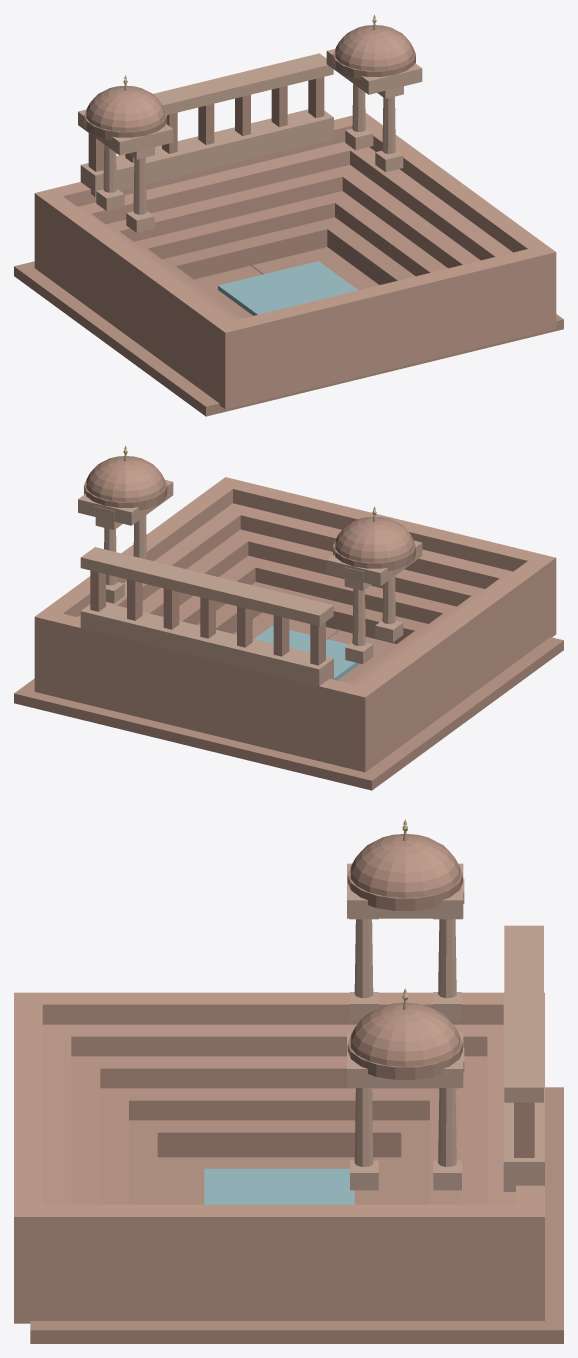
The picture shows the model from 3 angles, top to bottom: view 1: azimuth 30°, elevation 25°; view 2: azimuth 150°, elevation 25°; view 3: azimuth 270°, elevation 25°; orthographic projection. The views are drawn at different scales.
Parts seen in each view (by area): view 1: S29; view 2: S29; view 3: S29.
Boxes of the visible parts, left/top/right/bottom form: S29: left=14, top=15, right=563, bottom=416; S29: left=14, top=445, right=563, bottom=790; S29: left=14, top=819, right=563, bottom=1343.
Bounding box in the file's own units: 4.2 × 2.57 × 4.02.
